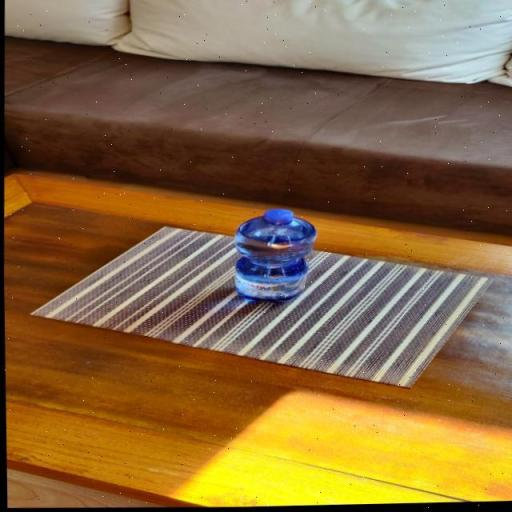plastic: (226, 207, 322, 307)
